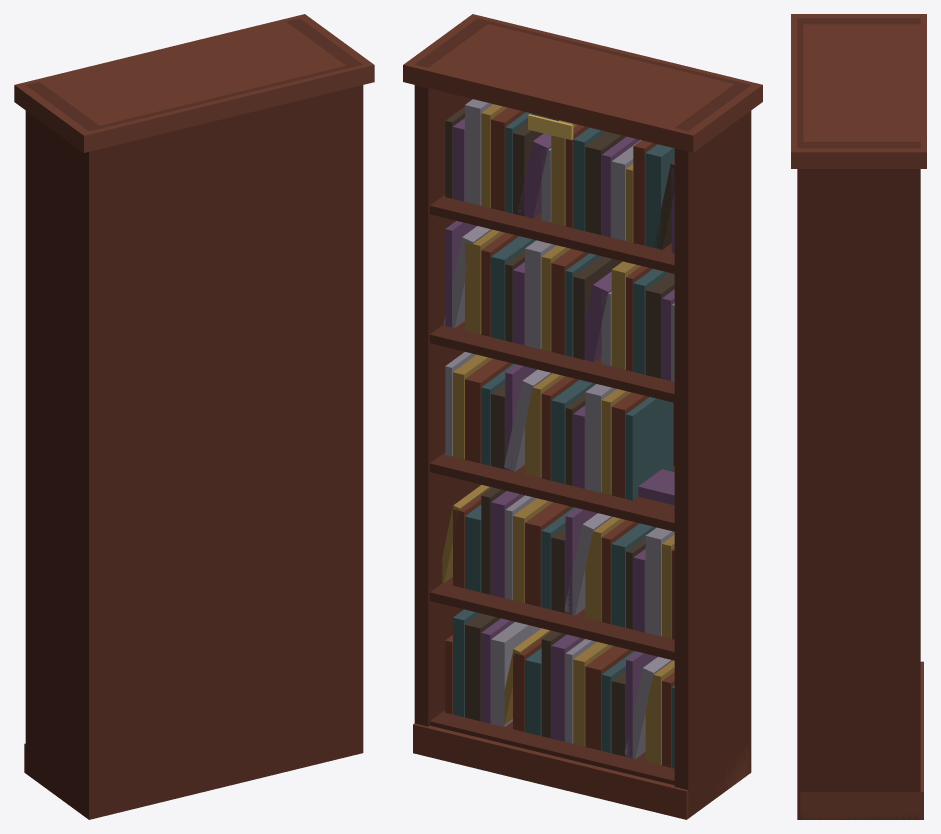
The model's file is SM_PRP_EstanteBiblioteca.fbx.
3 views of the same model, side by side, from view 1: azimuth 30°, elevation 25°; view 2: azimuth 150°, elevation 25°; view 3: azimuth 270°, elevation 25° (orthographic). The views are drawn at different scales.
Parts seen in each view (by area): view 1: SM_PRP_EstanteBiblioteca; view 2: SM_PRP_EstanteBiblioteca; view 3: SM_PRP_EstanteBiblioteca.
Part boxes in pixels (<box>): SM_PRP_EstanteBiblioteca: <box>14,14,374,819</box>; SM_PRP_EstanteBiblioteca: <box>403,14,762,819</box>; SM_PRP_EstanteBiblioteca: <box>791,14,926,819</box>.
Size of the model in its own units: 1.06 by 2.4 by 0.44.
